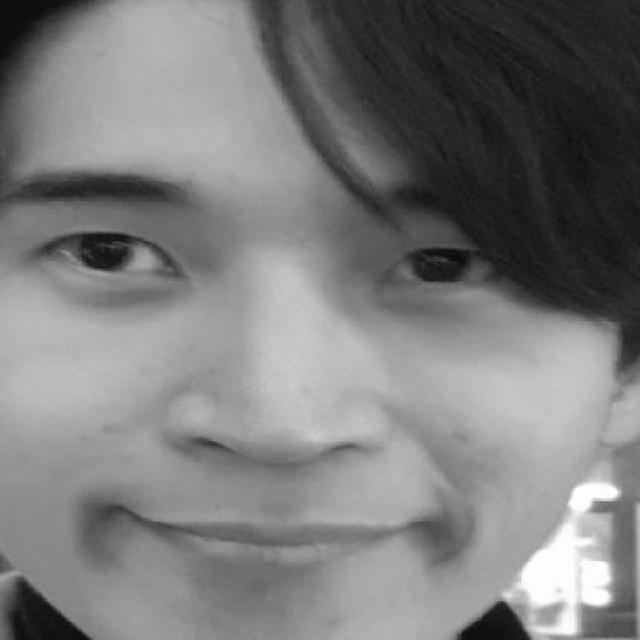happy: (0, 160, 528, 612)
